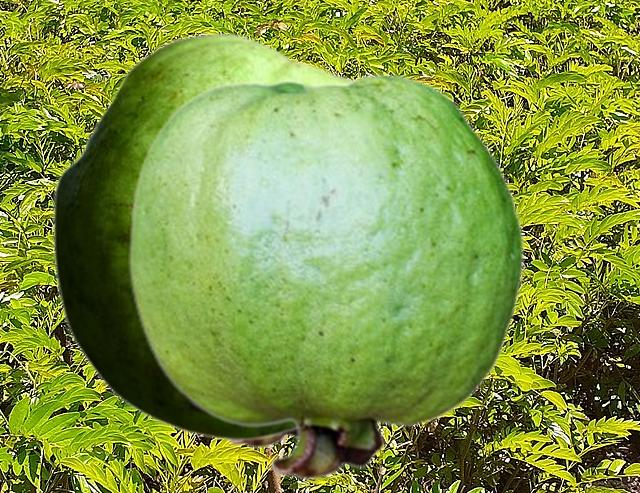guava: (128, 73, 525, 480), (52, 33, 355, 440)
